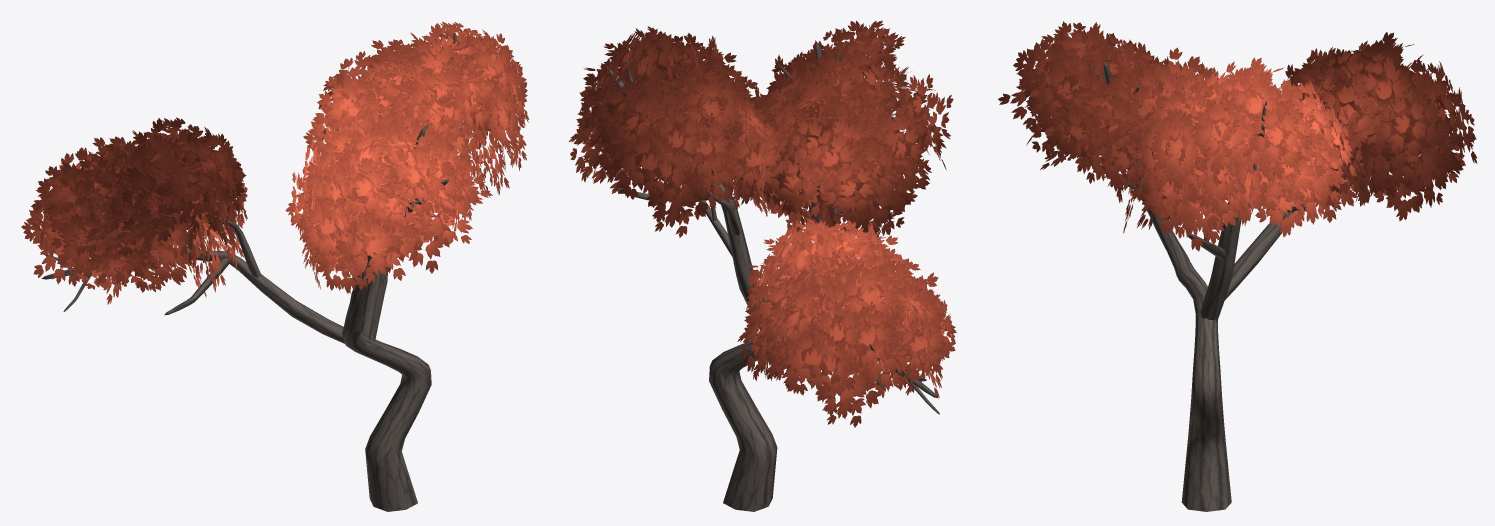
The model's file is maple_tree_2.gltf.
3 renders of one model, left to right at view 1: azimuth 30°, elevation 25°; view 2: azimuth 150°, elevation 25°; view 3: azimuth 270°, elevation 25°, orthographic. The views are drawn at different scales.
Visible parts, largest first — view 1: MapleTree_2; view 2: MapleTree_2; view 3: MapleTree_2.
Part boxes in pixels (x1,y1,x2,y2): MapleTree_2: (21,21,529,511); MapleTree_2: (569,20,956,511); MapleTree_2: (998,21,1477,511).
Size of the model in its own units: 6.7 by 6.71 by 6.24.
Materials: 2 (2 with a texture image).
